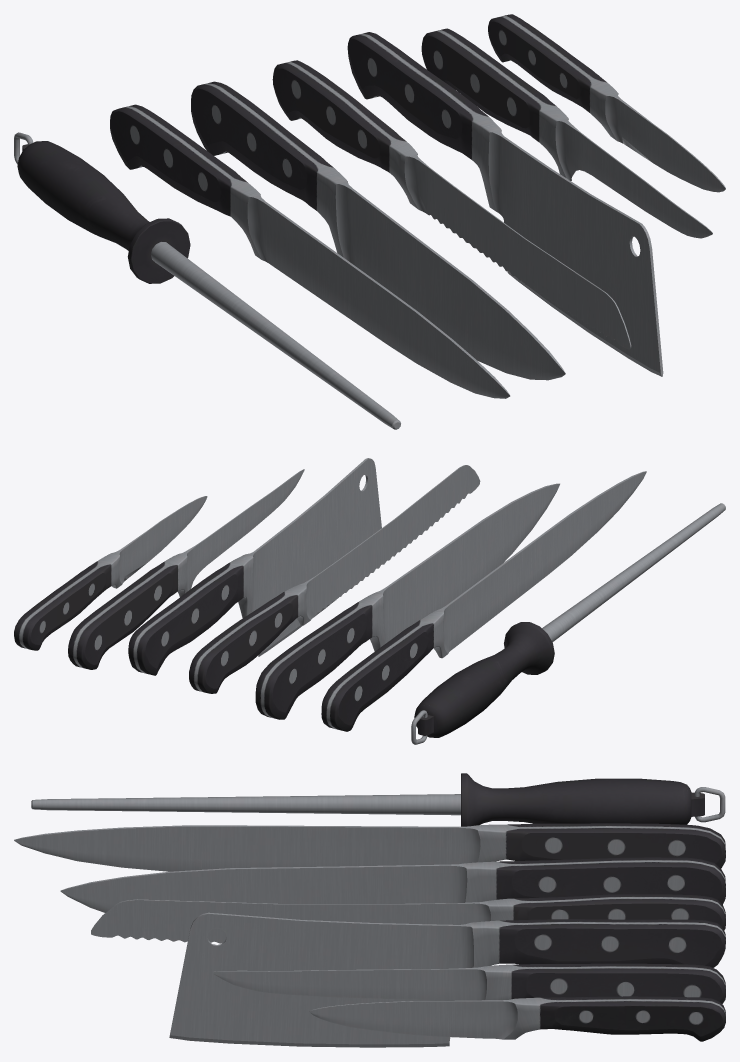
The model's file is knife-set.glb.
3 views of the same model, one above another, from view 1: azimuth 30°, elevation 25°; view 2: azimuth 150°, elevation 25°; view 3: azimuth 270°, elevation 25° (orthographic). The views are drawn at different scales.
Parts seen in each view (by area): view 1: MeatCleaver, CooksKnife, CarvingKnife, BreadKnife, Cylinder.001, BoningKnife, ParingKnife; view 2: CooksKnife, MeatCleaver, CarvingKnife, BreadKnife, Cylinder.001, BoningKnife, ParingKnife; view 3: MeatCleaver, CarvingKnife, CooksKnife, Cylinder.001, BoningKnife, BreadKnife, ParingKnife.
Part boxes in pixels (box(x1,y1,x2,y2)): MeatCleaver: box(347, 32, 663, 376); CooksKnife: box(191, 81, 565, 380); CarvingKnife: box(110, 104, 510, 398); BreadKnife: box(272, 60, 631, 349); Cylinder.001: box(14, 132, 400, 429); BoningKnife: box(421, 28, 712, 238); ParingKnife: box(488, 14, 725, 192); CooksKnife: box(255, 483, 559, 719); MeatCleaver: box(128, 458, 381, 675); CarvingKnife: box(321, 471, 646, 731); BreadKnife: box(189, 465, 480, 693); Cylinder.001: box(411, 503, 725, 744); BoningKnife: box(68, 469, 304, 669); ParingKnife: box(14, 496, 207, 650); MeatCleaver: box(169, 912, 725, 1047); CarvingKnife: box(14, 823, 725, 871); CooksKnife: box(60, 857, 725, 912); Cylinder.001: box(31, 773, 725, 826); BoningKnife: box(212, 963, 725, 1003); BreadKnife: box(91, 894, 725, 943); ParingKnife: box(309, 996, 725, 1041).
Size of the model in its own units: 2114 by 572 by 2750.
1 material, 1 textured.
